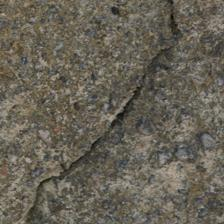Crack: (25, 75, 149, 219), (151, 3, 184, 63)
